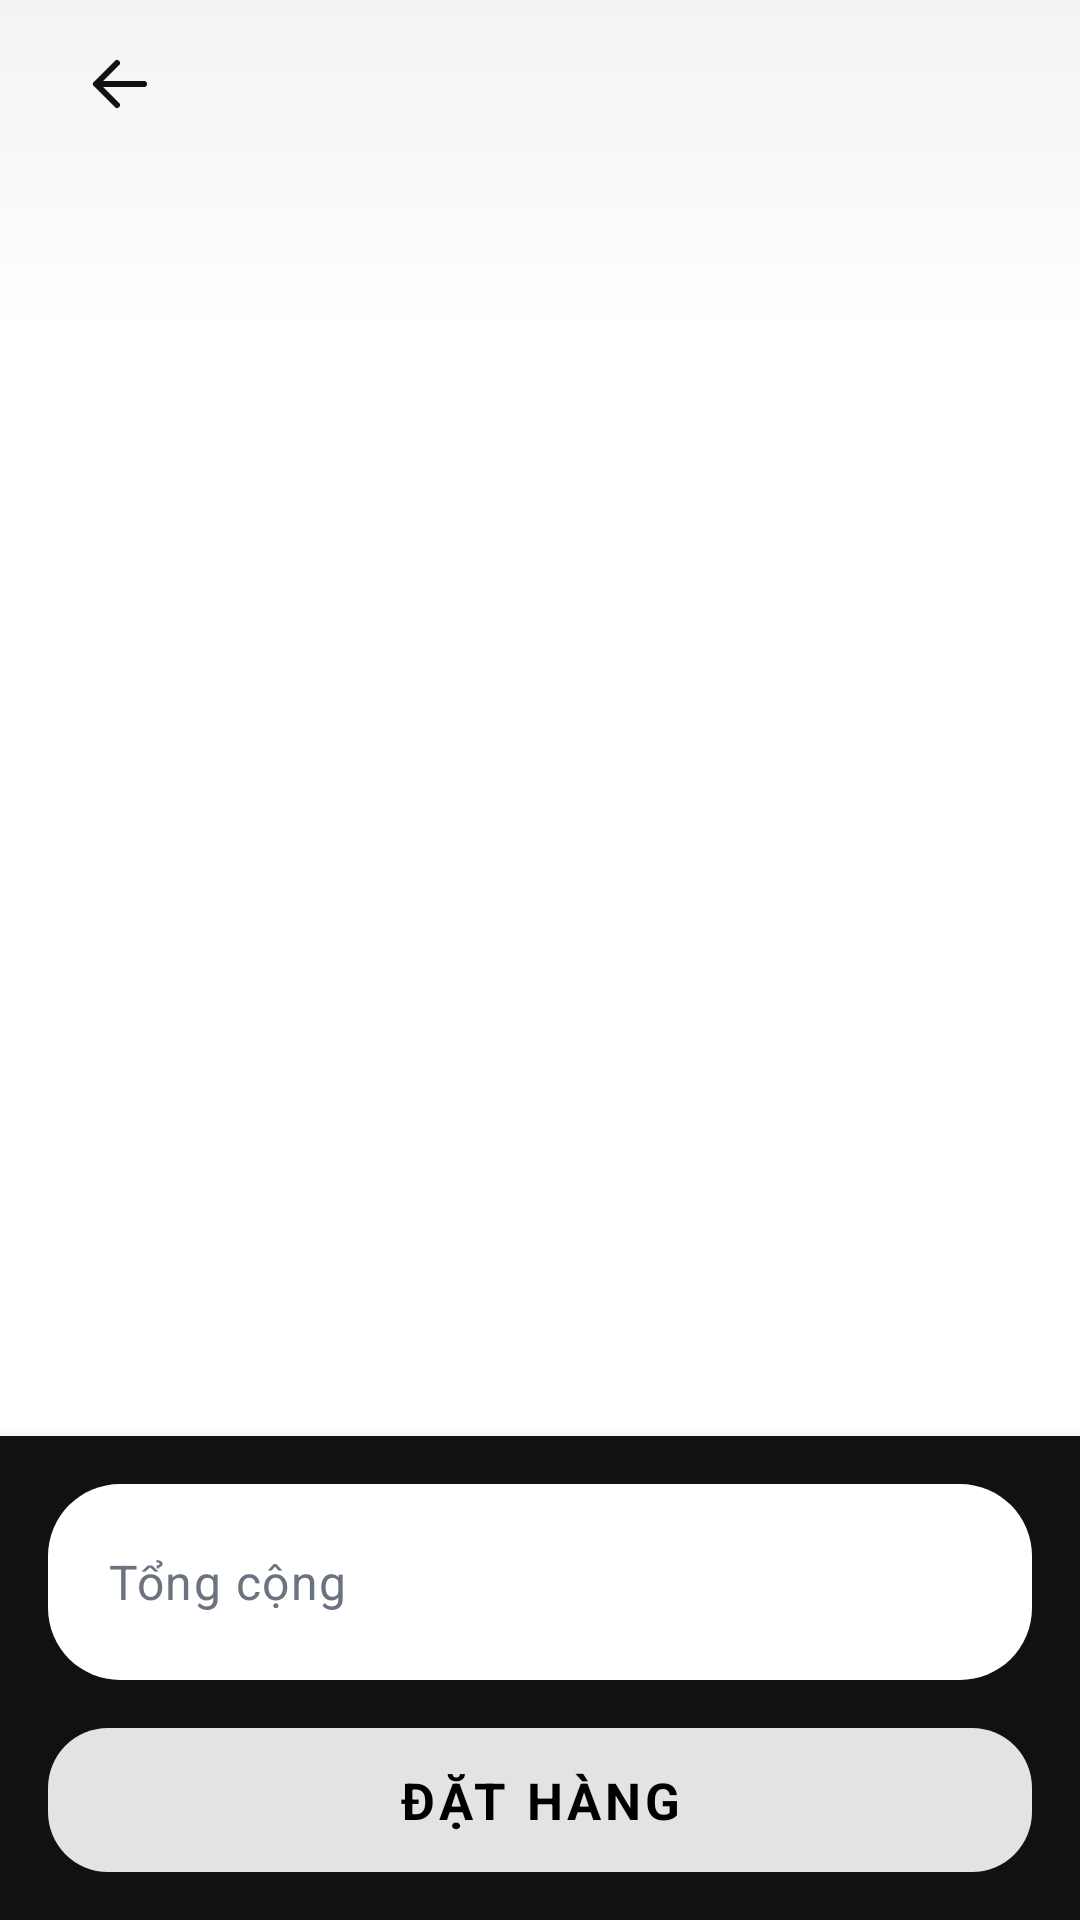

Screen size 1080 × 1920. Icon name, then its box in pixels as {"x1": x1, "y1": y1, "x2": x2, "y2": y2}:
Quay lại: {"x1": 93, "y1": 60, "x2": 147, "y2": 108}
